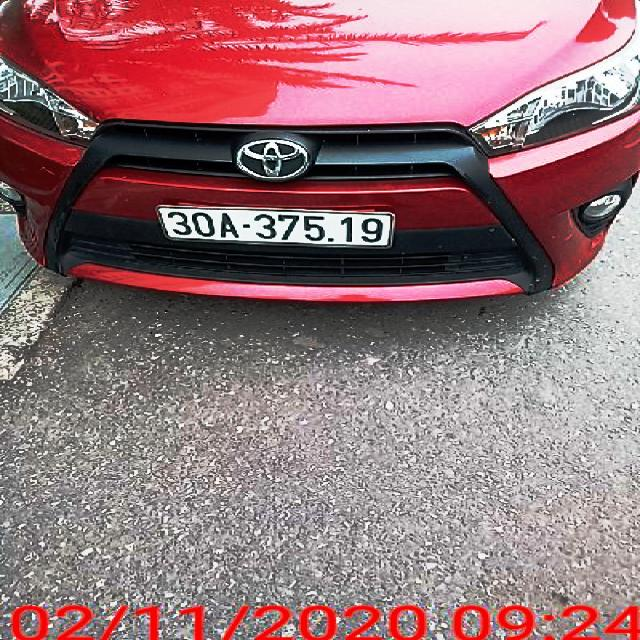license_plate: (153, 208, 396, 251)
